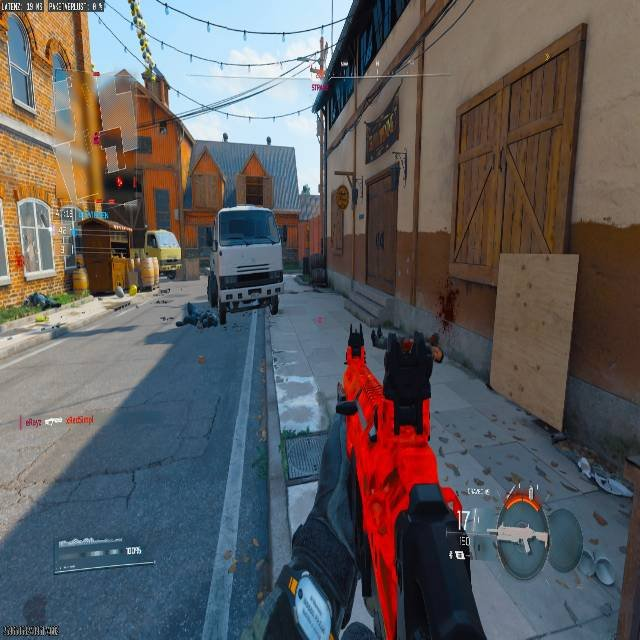player: (381, 327, 443, 443)
